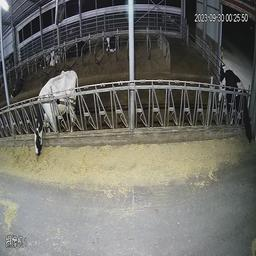cow: (32, 67, 88, 165), (215, 64, 254, 148), (8, 69, 27, 99), (103, 31, 121, 61), (67, 33, 88, 57), (42, 46, 59, 66)
